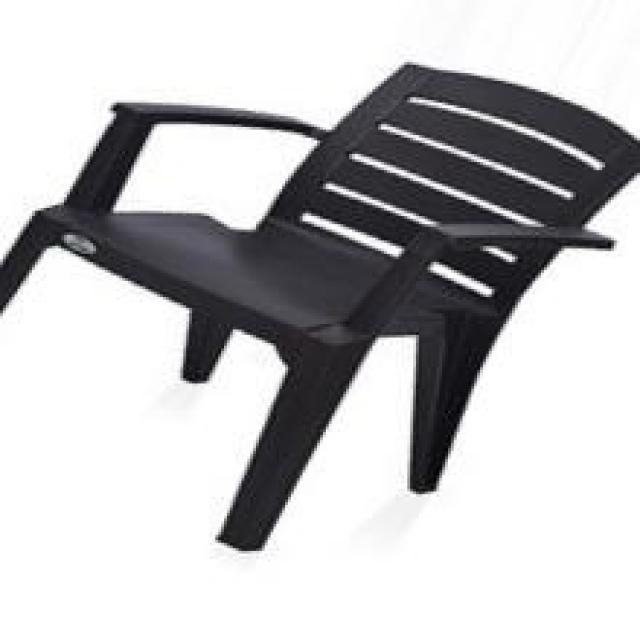chair: (6, 62, 634, 551)
